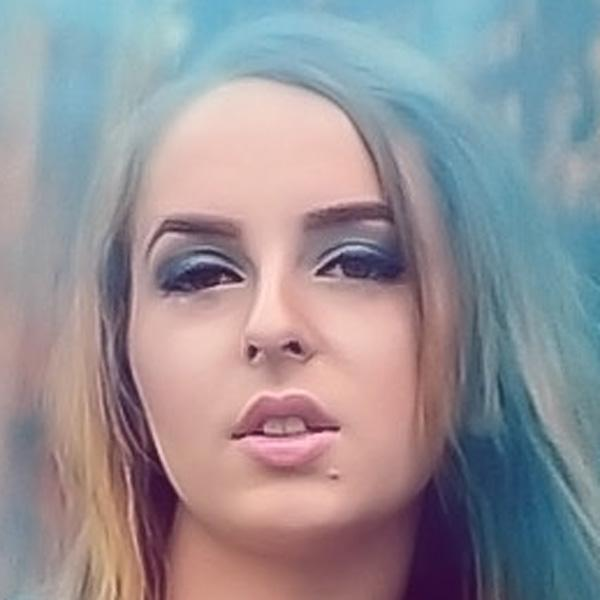Eyes: (304, 235, 408, 298), (152, 245, 253, 305)
